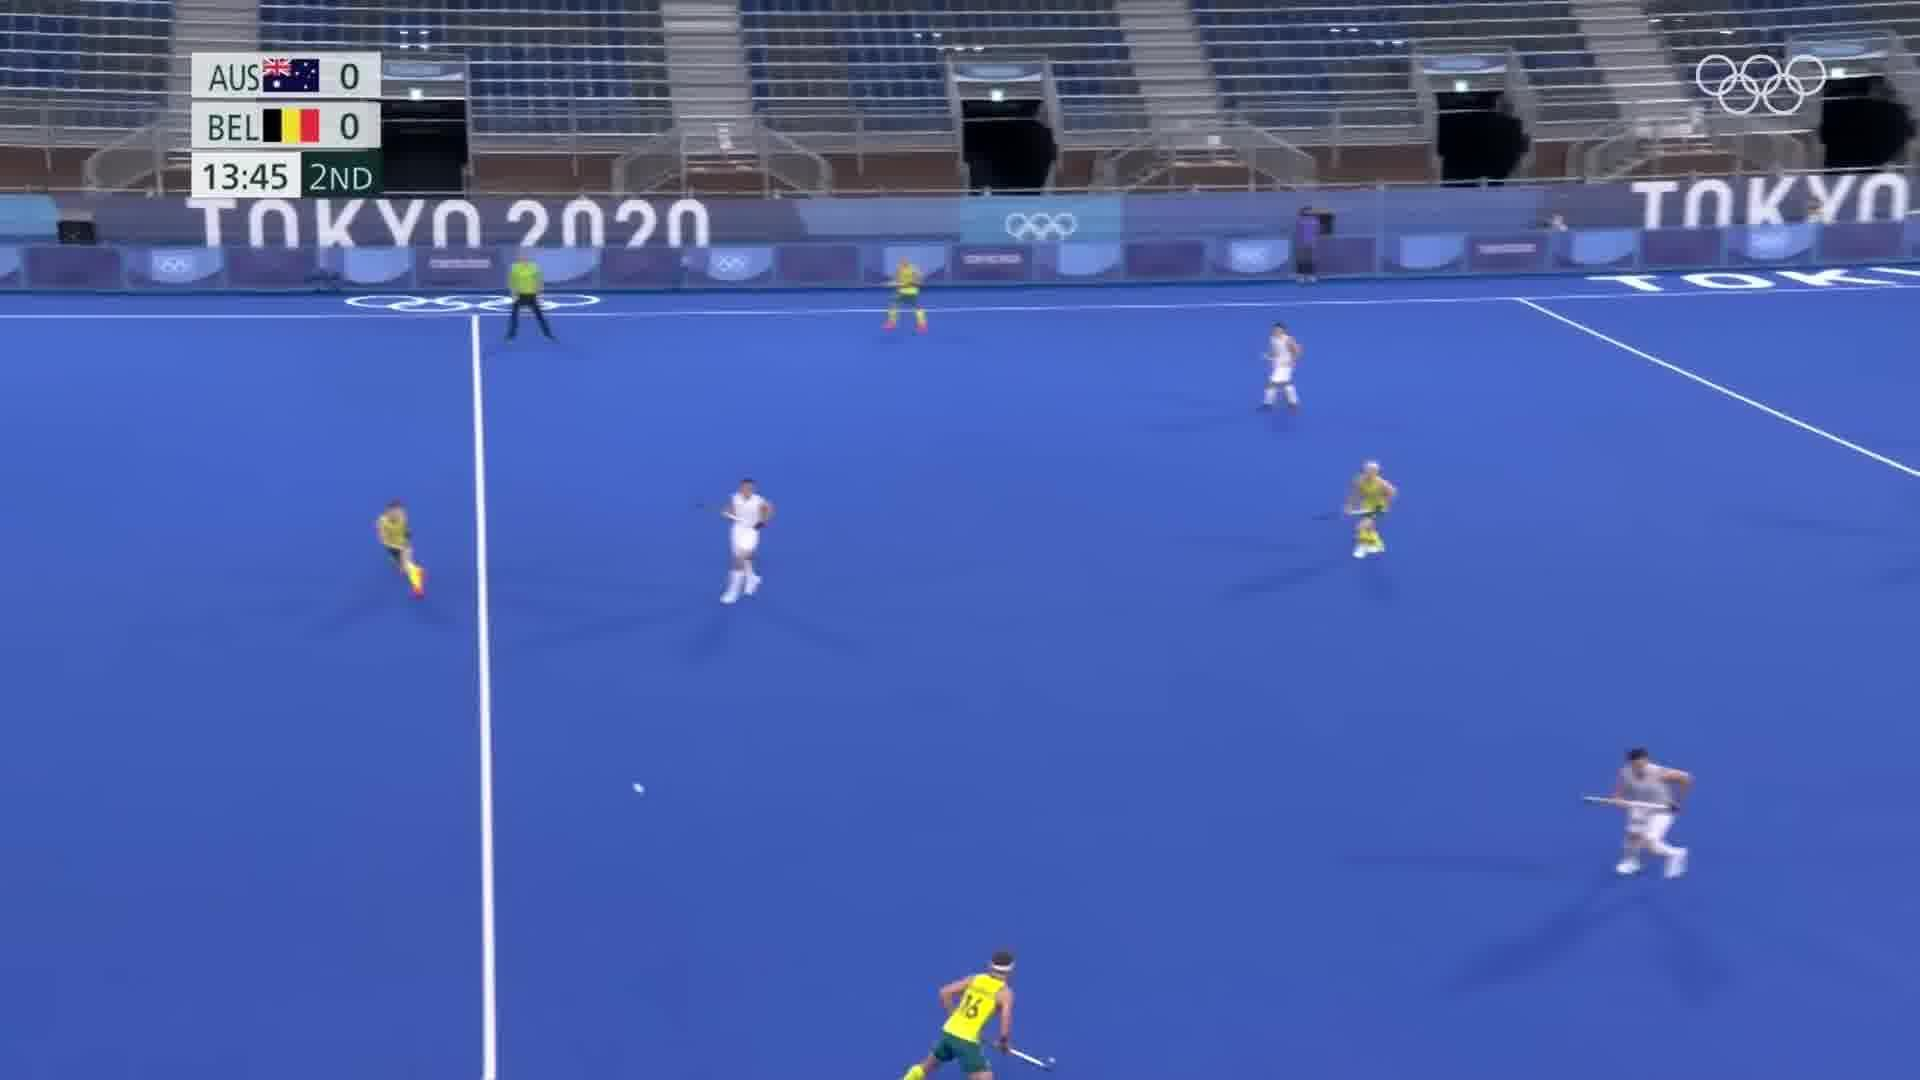ball: (630, 779, 653, 796)
